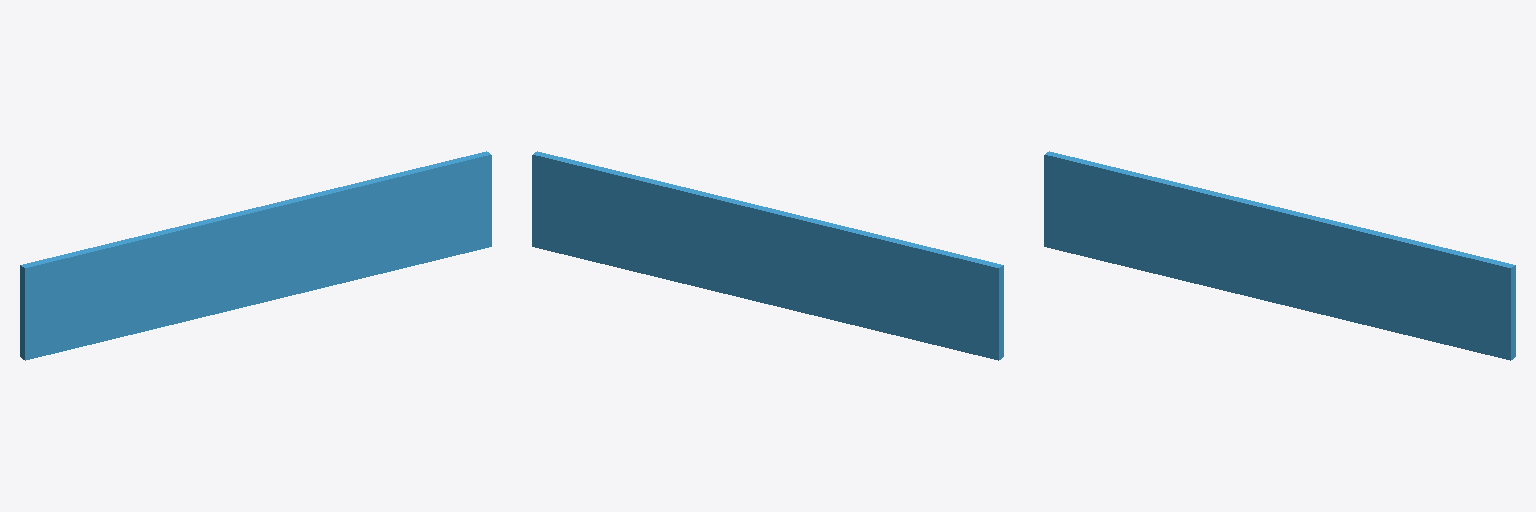
URDF robot description (hemis_96):
<?xml version="1.0" encoding="utf-8"?>    
    <robot name="hemis_96">
        <link name="hemis_96">    
            <fem>
                <origin rpy="0.0 0.0 0.0" xyz="0 0 0" />
                <density value="100" />
                <youngs value="9867"/>
                <poissons value="0.3" />
                <damping value="0.0" />
                <attachDistance value="0.04" />
                <tetmesh filename="[local-path]/sim_data/Custom/Custom_mesh/multi_hemis_10kPa/hemis_96.tet" />
                <scale value="0.5"/>
            </fem>
        </link>

        <link name="fix_frame">
            <visual>
                <origin xyz="0 -10.113516395261936 0.05675819763096786"/>              
                <geometry>
                    <box size="0.3 0.005 0.05675819763096786"/>
                </geometry>
            </visual>
            <collision>
                <origin xyz="0 -0.11351639526193573 0.05675819763096786"/>              
                <geometry>
                    <box size="0.3 0.005 0.05675819763096786"/>
                </geometry>
            </collision>
            <inertial>
                <mass value="500000"/>
                <inertia ixx="0.05" ixy="0.0" ixz="0.0" iyy="0.05" iyz="0.0" izz="0.05"/>
            </inertial>
        </link>
        
        <joint name = "attach" type = "fixed">
            <origin xyz = "0.0 0.0 0.0" rpy = "0 0 0"/>
            <parent link ="hemis_96"/>
            <child link = "fix_frame"/>
        </joint>  




    </robot>
    

--- Render facts (derived) ---
3 views of the same robot in one strip: view 1: azimuth 30°, elevation 25°; view 2: azimuth 150°, elevation 25°; view 3: azimuth 330°, elevation 25° (orthographic).
Model hemis_96 with 2 links and 1 joints (1 fixed), rooted at hemis_96, posed every joint at zero.
Visible links, largest first — view 1: fix_frame; view 2: fix_frame; view 3: fix_frame.
Link boxes in pixels (x1,y1,x2,y2): fix_frame: [20, 151, 491, 360]; fix_frame: [532, 151, 1003, 360]; fix_frame: [1044, 151, 1515, 360].
Bounding box of the posed robot: 0.3 × 0.005 × 0.0568 m (x, y, z).
Geometry: primitives only (box / cylinder / sphere), no mesh files.
